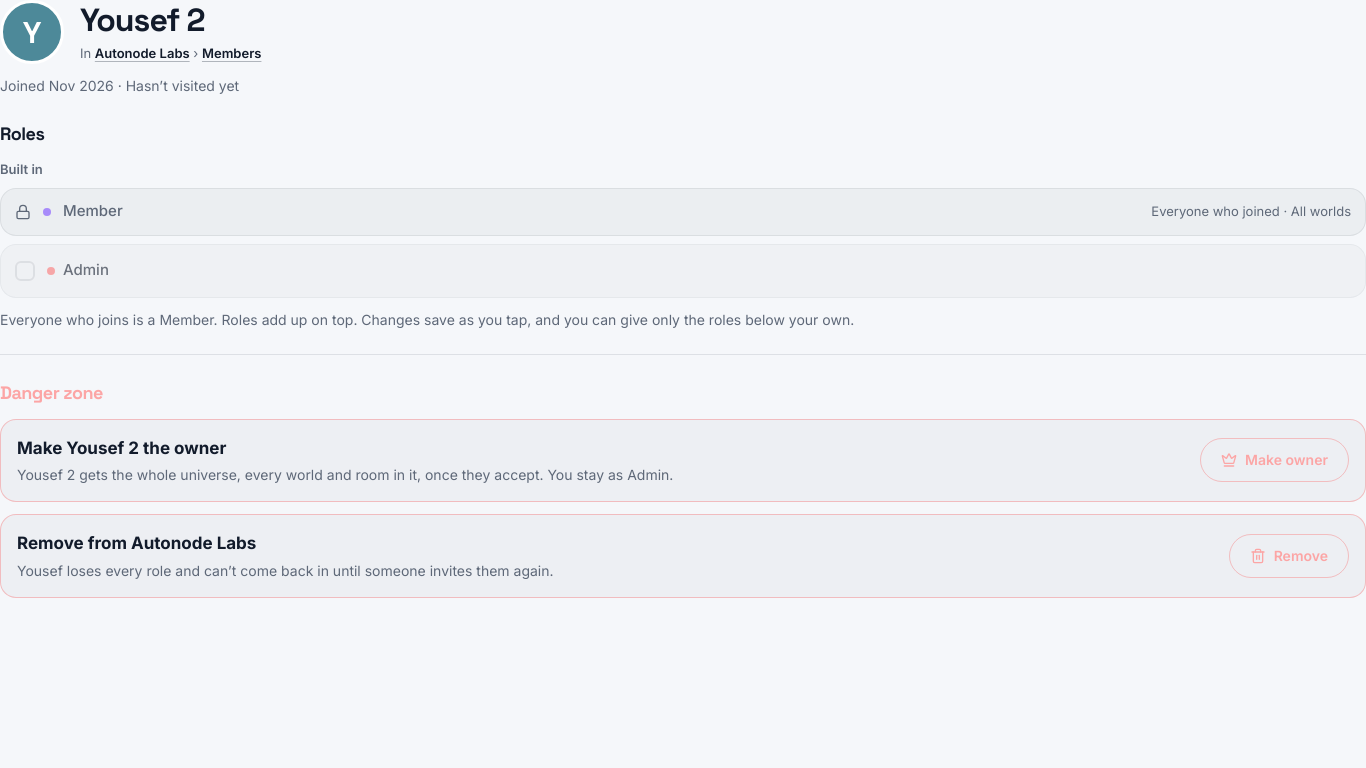
Test case: Make owner on a member’s page › keeps the sheet open and says why when the server refuses
The width and height of the screenshot is (1366, 768).
Click the button "Make owner" at (1275, 460), box [1200,438,1349,482]
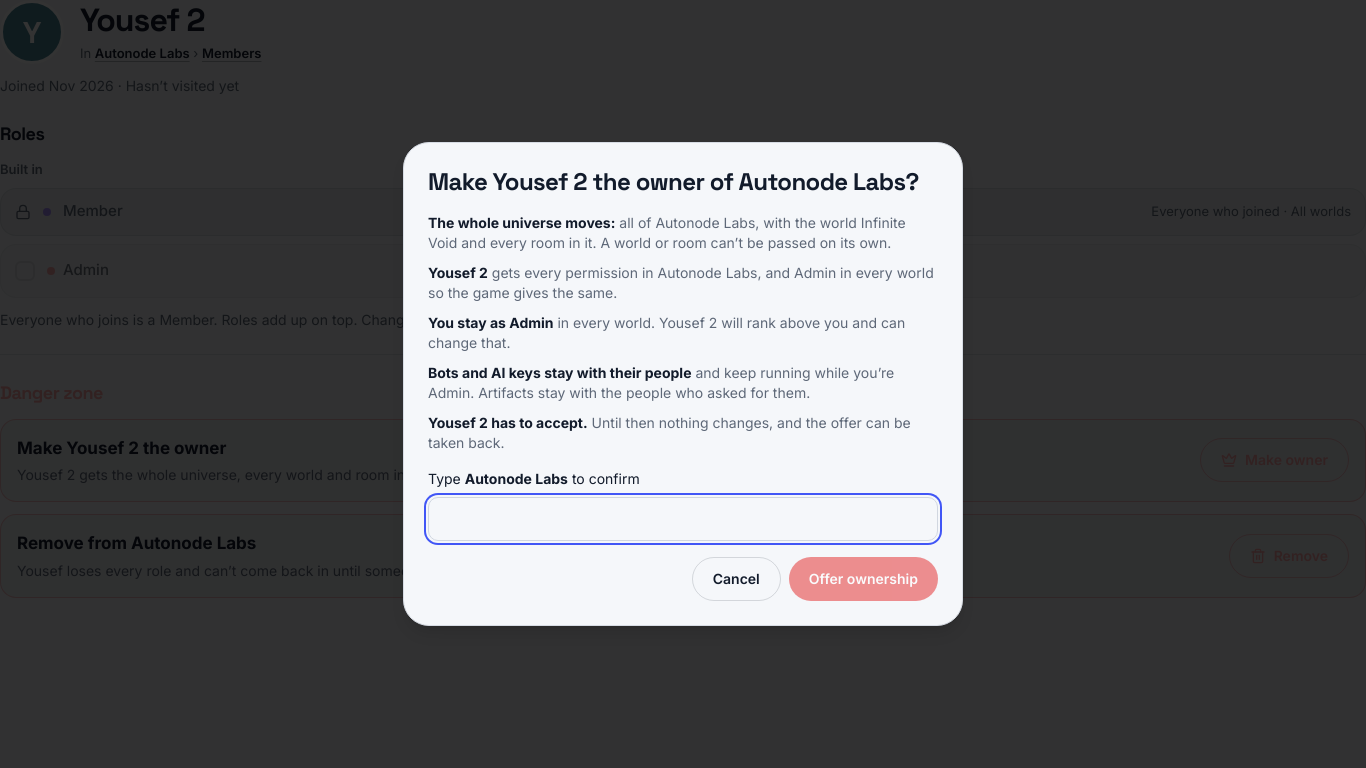
Type "Autonode Labs" into the field at (683, 519), box [428,497,938,541]
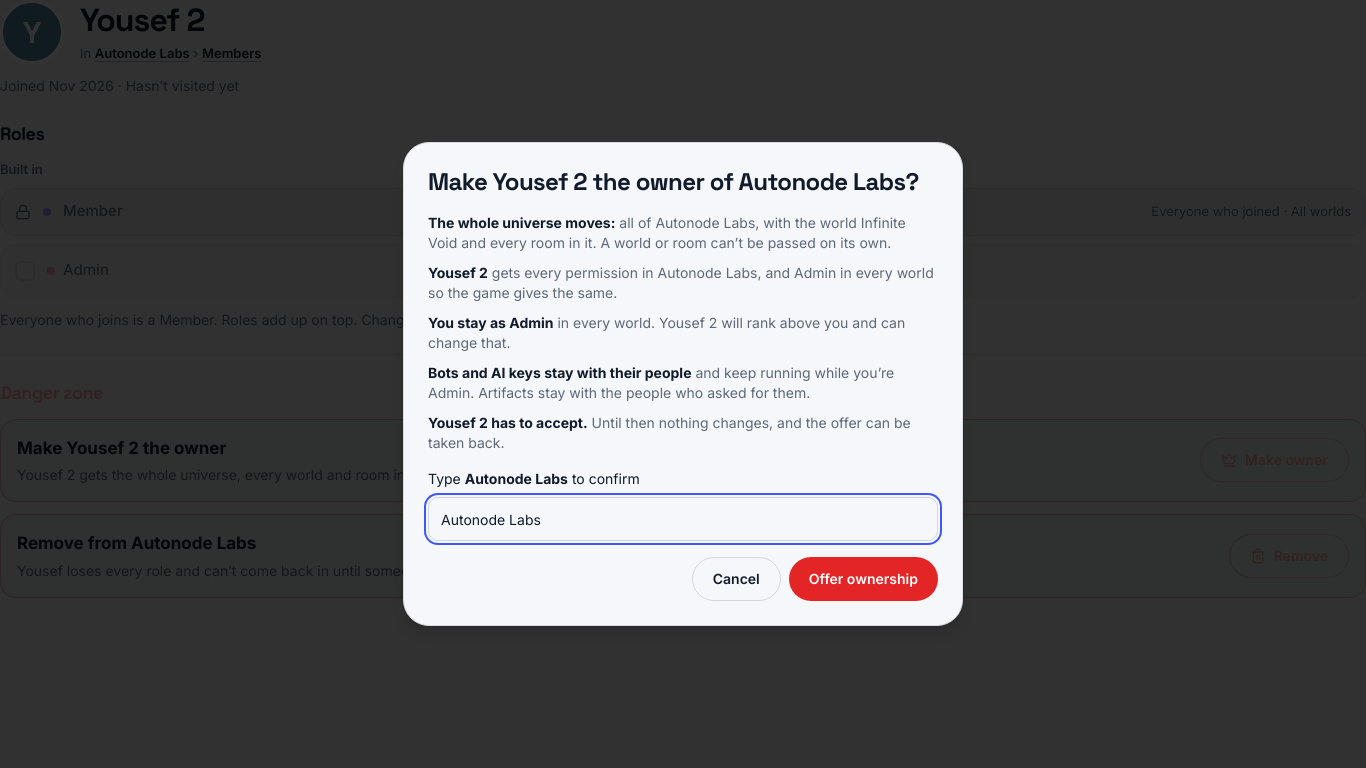
Click the button "Offer ownership" at (863, 579), box [789,557,938,601]
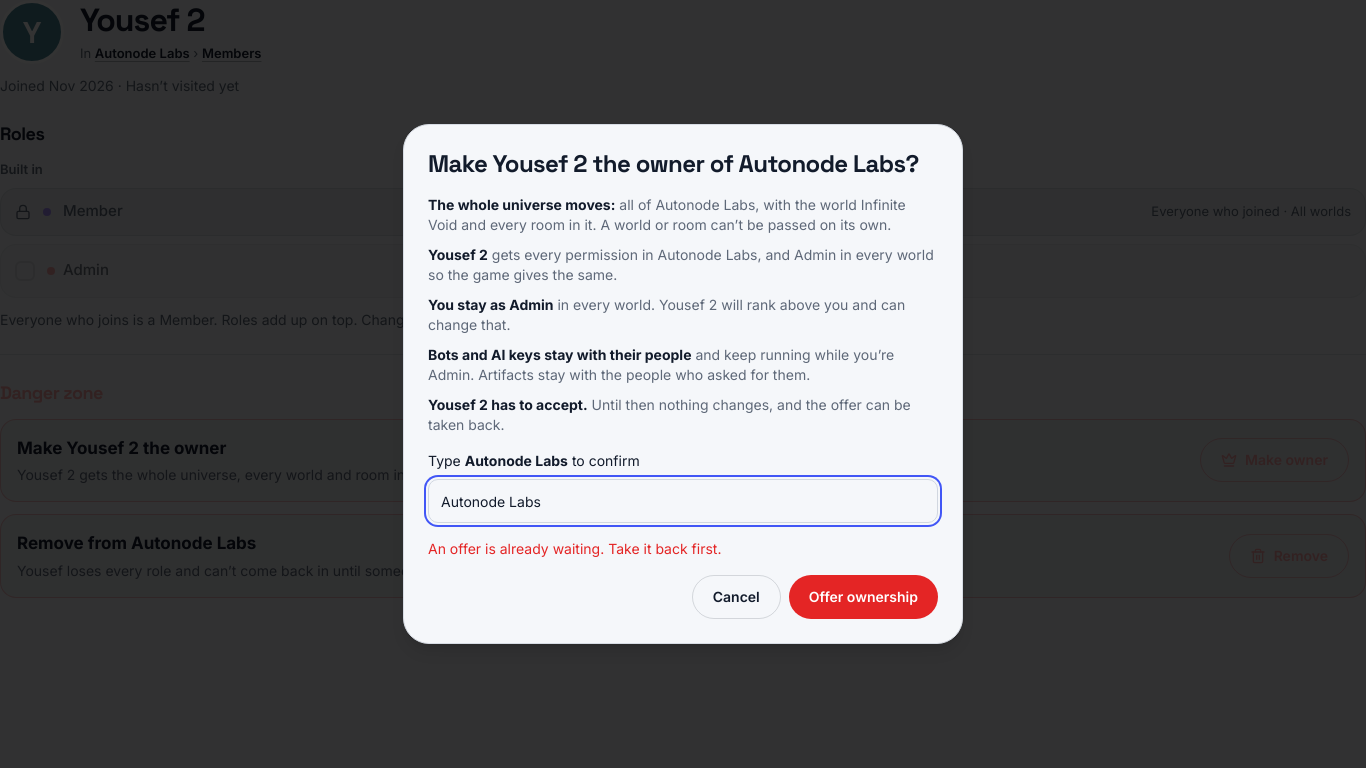
Now the dialog is shown, box [403,124,963,644]
Now the text "An offer is already waiting. Take it back first." is shown, box [428,540,722,557]
